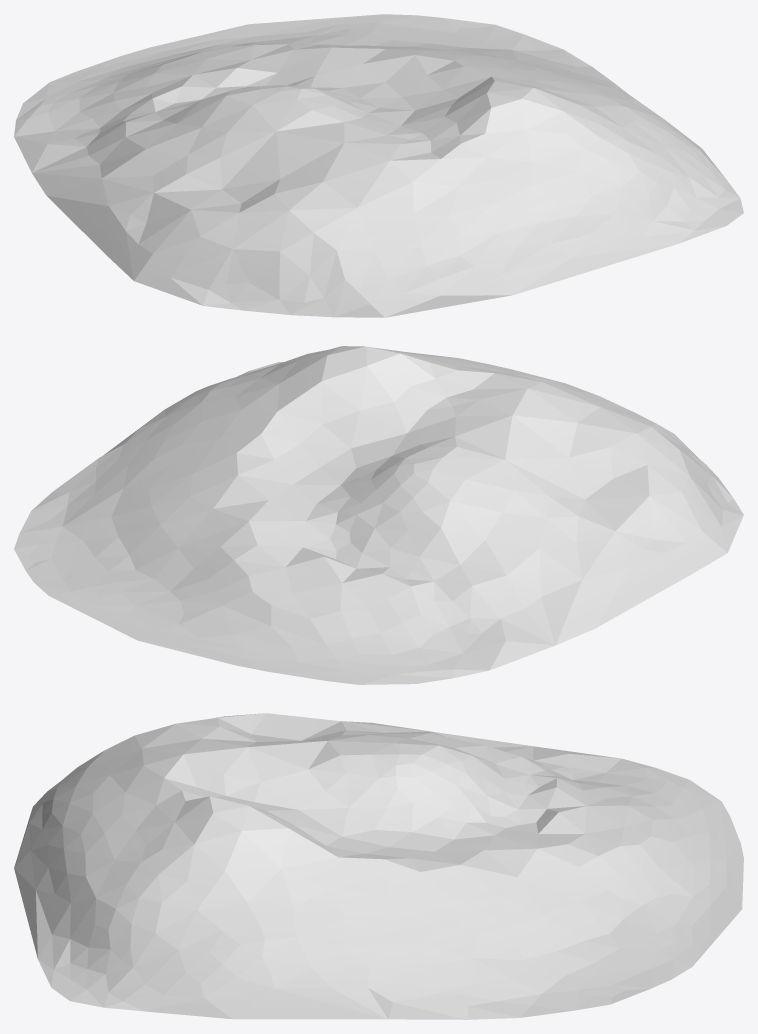
The model's file is Hill_13.glb.
3 renders of one model, top to bottom at view 1: azimuth 30°, elevation 25°; view 2: azimuth 150°, elevation 25°; view 3: azimuth 270°, elevation 25°, orthographic. The views are drawn at different scales.
Parts seen in each view (by area): view 1: Hill_13; view 2: Hill_13; view 3: Hill_13.
Boxes of the visible parts, x1,y1,x2,y2 form: Hill_13: [14, 14, 743, 317]; Hill_13: [14, 346, 743, 684]; Hill_13: [14, 713, 743, 1019].
Bounding box in the file's own units: 57.68 × 10.09 × 61.13.
Materials: 1 (1 with a texture image).
